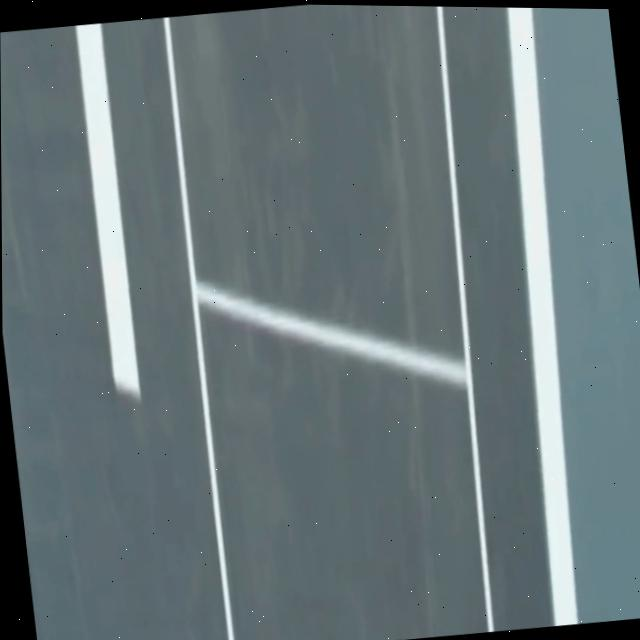center: (76, 23, 139, 400)
left: (507, 8, 578, 626)
